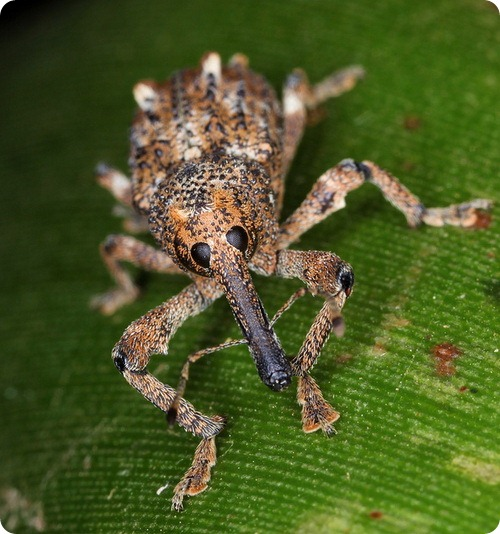dolgonosik: (92, 63, 496, 513)
